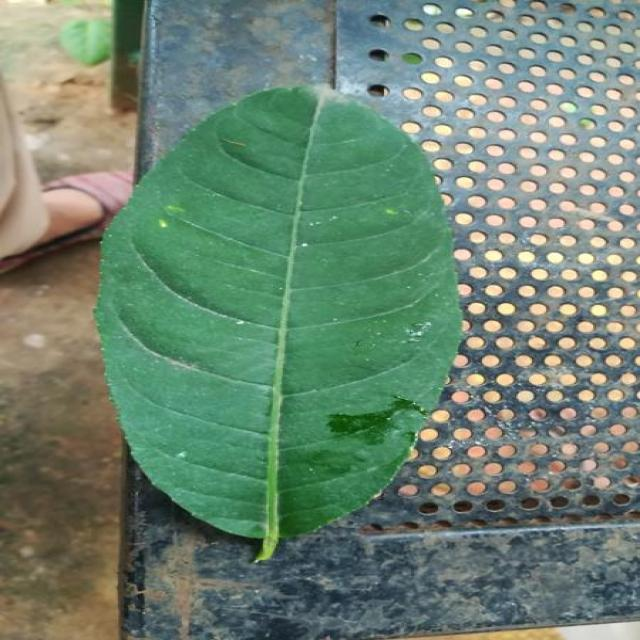badipala: (97, 86, 462, 561)
defectedbadipala: (308, 398, 425, 517)
